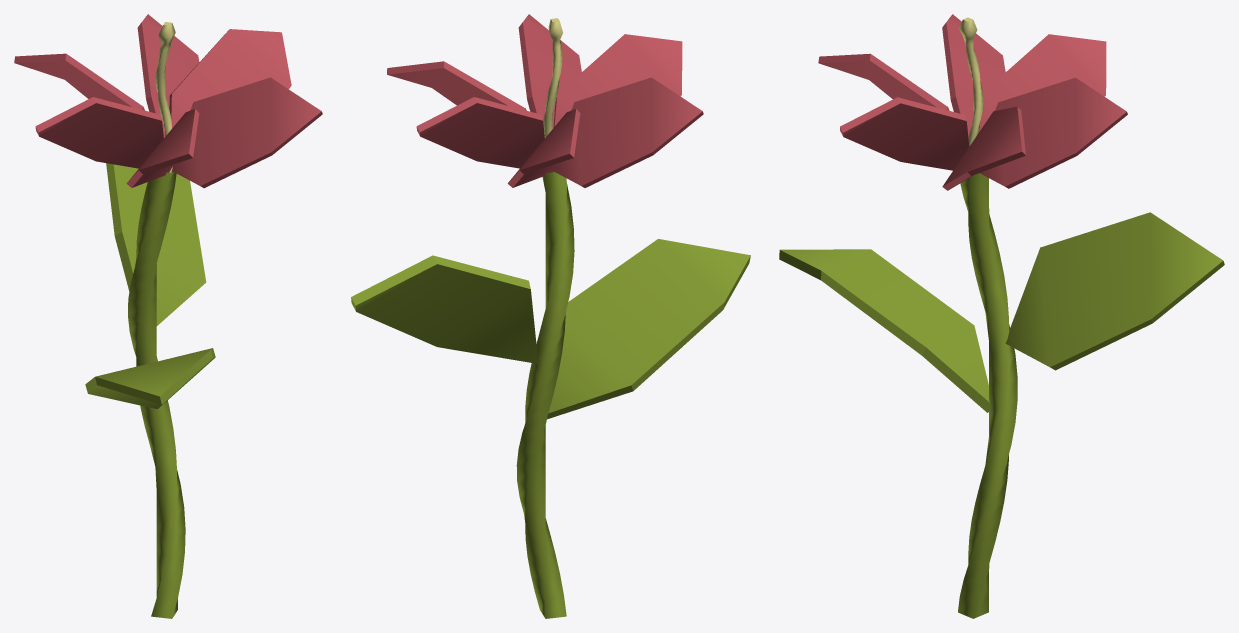
Rendered from fleurRouge.fbx.
3 renders of one model, left to right at view 1: azimuth 30°, elevation 25°; view 2: azimuth 150°, elevation 25°; view 3: azimuth 270°, elevation 25°, orthographic.
Visible parts, largest first — view 1: polySurface29; view 2: polySurface29; view 3: polySurface29.
Part boxes in pixels (x1,y1,x2,y2): polySurface29: [14, 14, 322, 618]; polySurface29: [351, 14, 750, 618]; polySurface29: [779, 14, 1224, 618].
Bounding box in the file's own units: 9.38 × 18.87 × 12.85.
